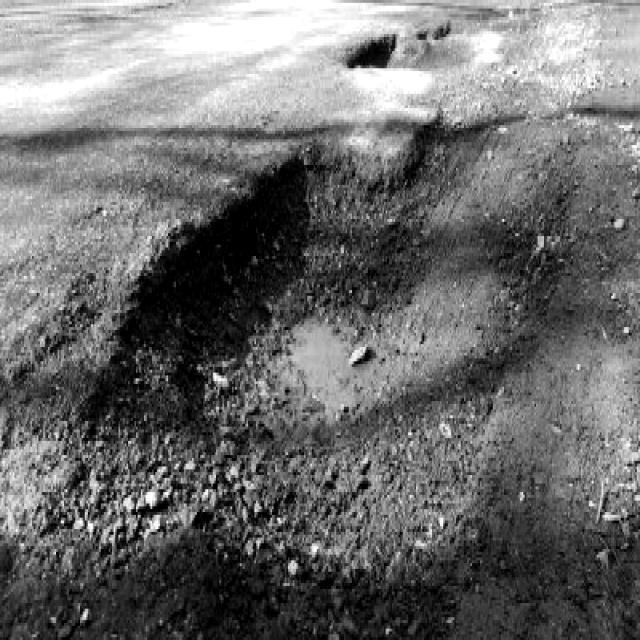pathole: (72, 0, 640, 640)
